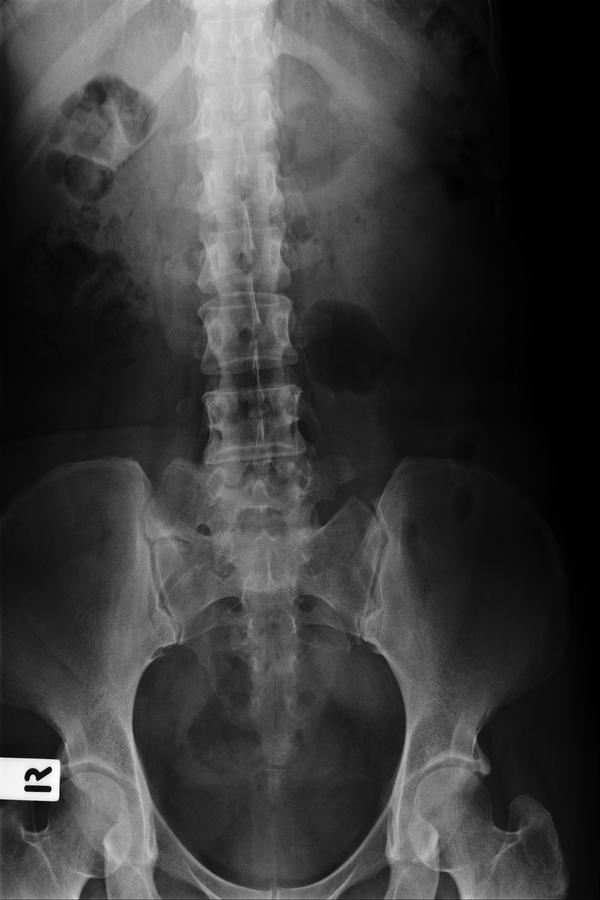lumbar scoliosis: (188, 13, 319, 561)
